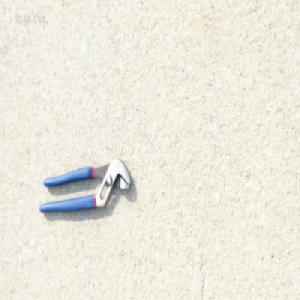Pliers: (37, 155, 132, 216)
